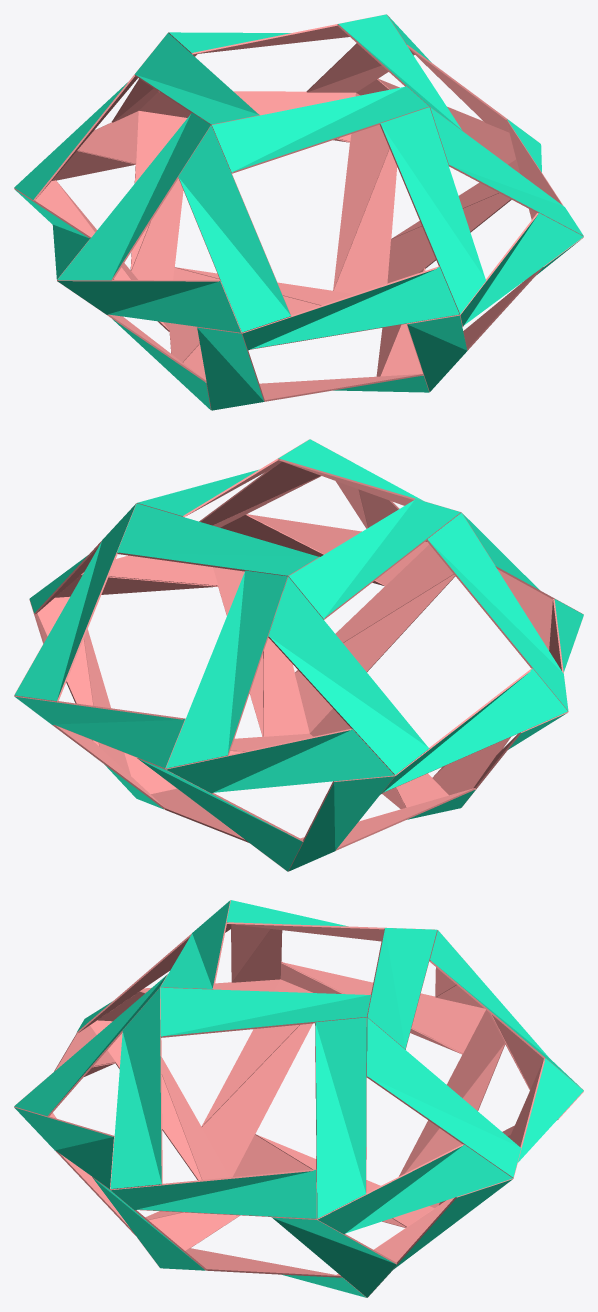
Rendered from SquareOrthobicupola.glb.
3 views of the same model, one above another, from view 1: azimuth 30°, elevation 25°; view 2: azimuth 150°, elevation 25°; view 3: azimuth 270°, elevation 25° (orthographic). The views are drawn at different scales.
Visible parts, largest first — view 1: root; view 2: root; view 3: root.
Part boxes in pixels (x1,y1,x2,y2): root: (14, 14, 583, 410); root: (14, 439, 583, 871); root: (14, 900, 583, 1297).
Bounding box in the file's own units: 10.09 × 5.49 × 10.09.
